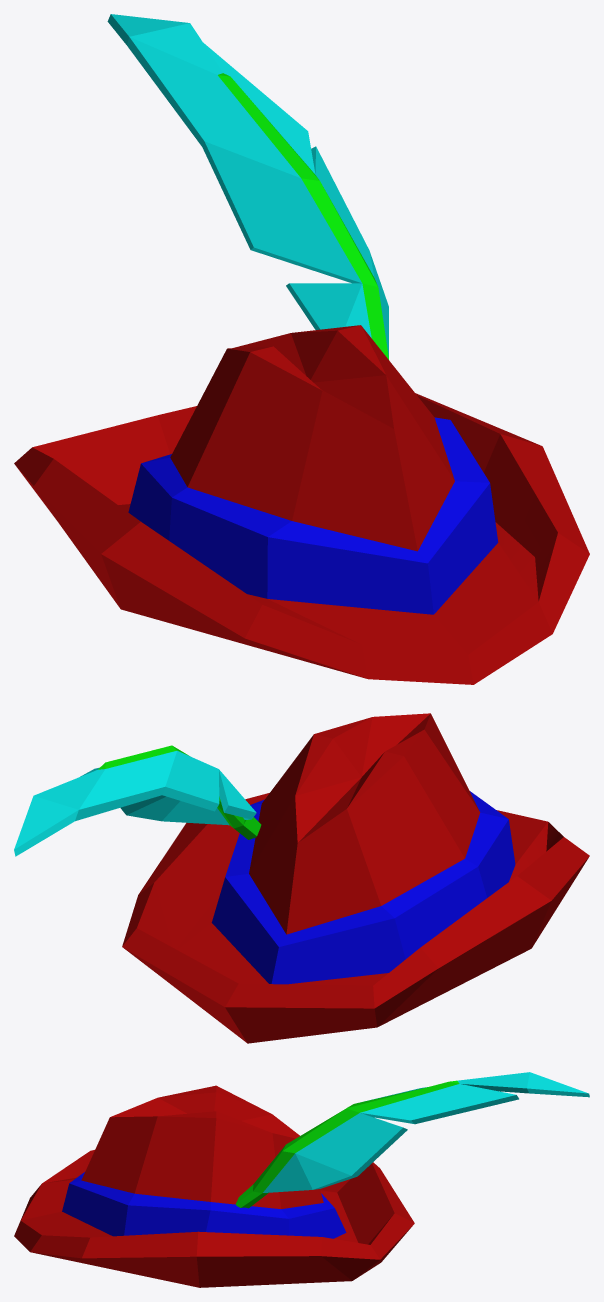
File: Chr_HeadCoverings_BaseHair_Static_08.fbx
3 renders of one model, top to bottom at view 1: azimuth 30°, elevation 25°; view 2: azimuth 150°, elevation 25°; view 3: azimuth 270°, elevation 25°, orthographic. The views are drawn at different scales.
Parts seen in each view (by area): view 1: Chr_HeadCoverings_Base_Hair_08; view 2: Chr_HeadCoverings_Base_Hair_08; view 3: Chr_HeadCoverings_Base_Hair_08.
Part boxes in pixels (<box>): Chr_HeadCoverings_Base_Hair_08: <box>14,14,589,684</box>; Chr_HeadCoverings_Base_Hair_08: <box>14,713,589,1043</box>; Chr_HeadCoverings_Base_Hair_08: <box>14,1072,589,1287</box>.
Size of the model in its own units: 41.58 by 32.3 by 78.05.
